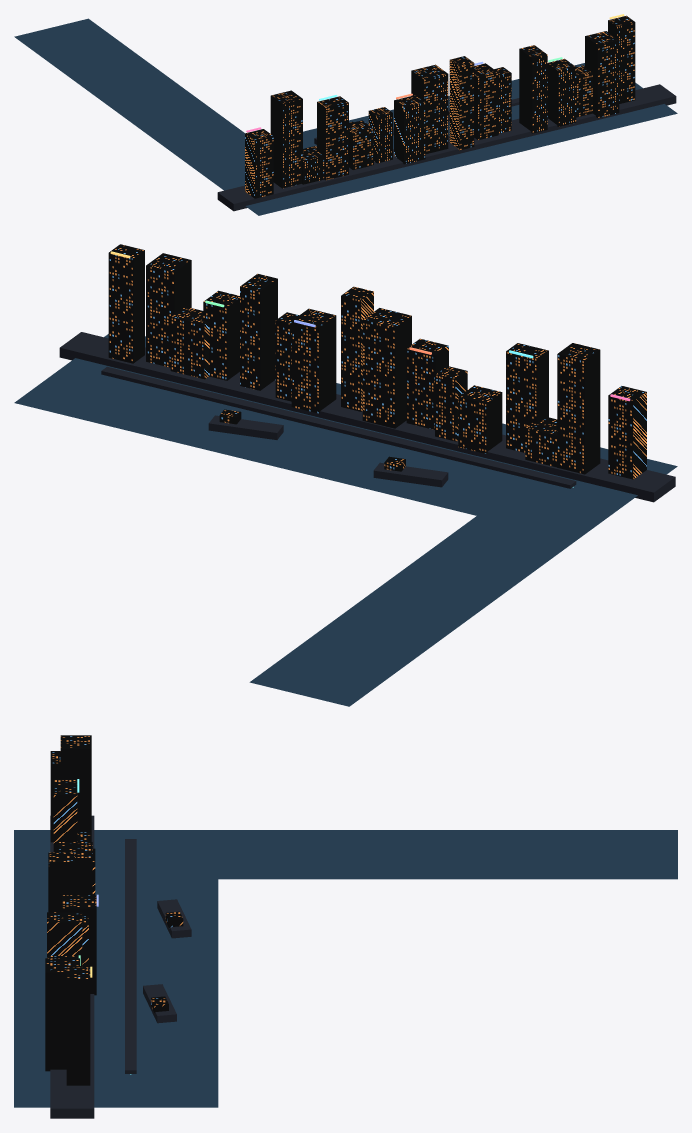
File: cl-harbor.glb
3 views of the same model, one above another, from view 1: azimuth 30°, elevation 25°; view 2: azimuth 150°, elevation 25°; view 3: azimuth 270°, elevation 25° (orthographic). The views are drawn at different scales.
Parts seen in each view (by area): view 1: cl_harbor; view 2: cl_harbor; view 3: cl_harbor.
Part boxes in pixels (x1,y1,x2,y2): cl_harbor: [14, 14, 677, 215]; cl_harbor: [14, 244, 677, 706]; cl_harbor: [14, 735, 677, 1118].
Size of the model in its own units: 190 by 37.75 by 182.
Materials: 9 (1 with a texture image).
